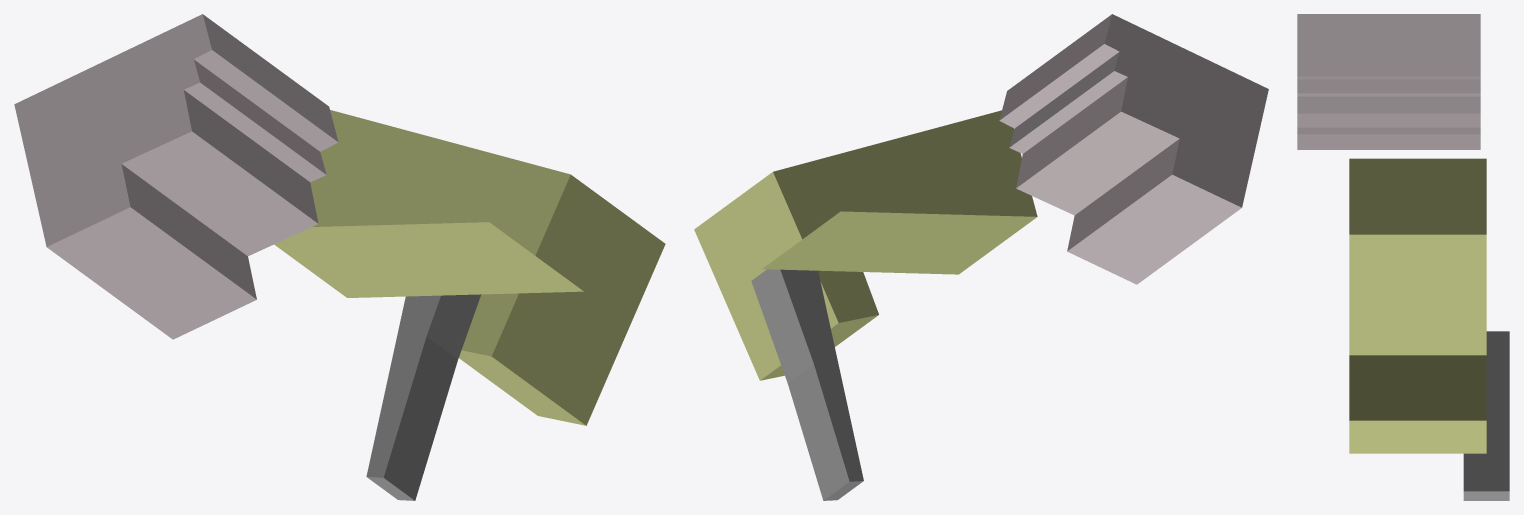
The picture shows the model from 3 angles, left to right: view 1: azimuth 30°, elevation 25°; view 2: azimuth 150°, elevation 25°; view 3: azimuth 270°, elevation 25°; orthographic projection. The views are drawn at different scales.
Visible parts, largest first — view 1: 0_1_0_2_0_0_0_0_1; view 2: 0_1_0_2_0_0_0_0_1; view 3: 0_1_0_2_0_0_0_0_1.
Part boxes in pixels (x1,y1,x2,y2): 0_1_0_2_0_0_0_0_1: [14, 14, 665, 500]; 0_1_0_2_0_0_0_0_1: [694, 14, 1268, 500]; 0_1_0_2_0_0_0_0_1: [1297, 14, 1509, 500].
Size of the model in its own units: 30.71 by 27.61 by 13.9.
